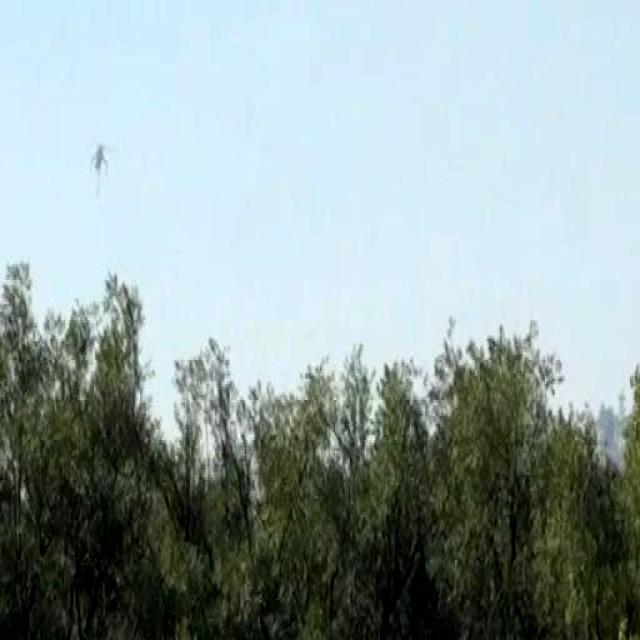drone: (86, 134, 114, 188)
